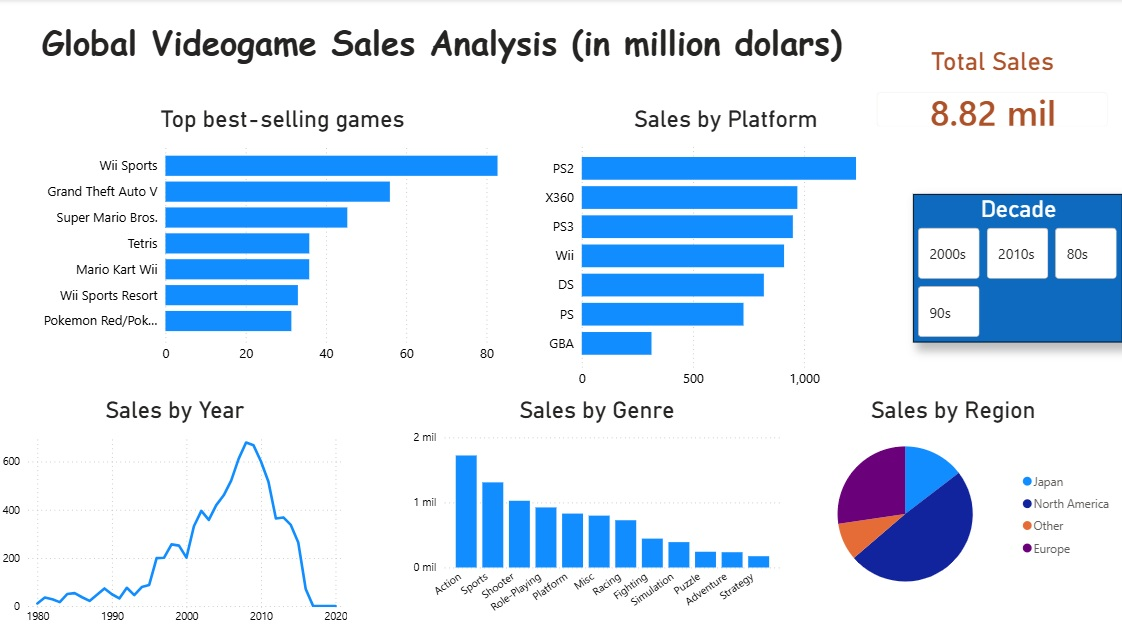

What the dashboard file says about the page in this screenshot:
{"tool":"powerbi","page":{"name":"Página 1","canvas":[1280,720],"ordinal":0},"visuals":[{"type":"clusteredBarChart","title":"Top best-selling games","fields":{"Category":["clean_sales_enriched.Name"],"Y":["Sum(clean_sales_enriched.Global_Sales)"]},"box":[32,121,582,302.6],"z":0},{"type":"clusteredColumnChart","title":"Sales by Genre","fields":{"Category":["clean_sales_enriched.Genre"],"Y":["Sum(clean_sales_enriched.Global_Sales)"]},"box":[468.1,452.1,427.1,268.7],"z":1000},{"type":"clusteredBarChart","title":"Sales by Platform","fields":{"Category":["clean_sales_enriched.Platform"],"Y":["Sum(clean_sales_enriched.Global_Sales)"]},"box":[614,121,427.1,331],"z":2000},{"type":"lineChart","title":"Sales by Year","fields":{"Category":["clean_sales_enriched.Year"],"Y":["Sum(clean_sales_enriched.Global_Sales)"]},"box":[0,452.1,402.2,268.7],"z":3000},{"type":"pieChart","title":"Sales by Region","fields":{"Y":["Sum(clean_sales_enriched.JP_Sales)","Sum(clean_sales_enriched.NA_Sales)","Sum(clean_sales_enriched.Other_Sales)","Sum(clean_sales_enriched.EU_Sales)"]},"box":[895.2,452.1,384.4,234.9],"z":4000},{"type":"textbox","box":[32,17.8,932.6,71.2],"z":5000},{"type":"cardVisual","title":"Total Sales","fields":{"Data":["Sum(clean_sales_enriched.Global_Sales)"]},"box":[982.4,53.4,297.2,108.6],"z":6000},{"type":"advancedSlicerVisual","fields":{"Values":["clean_sales_enriched.Decade"]},"box":[1041.2,222.5,238.5,169.1],"z":7000}]}

Visuals, with their boxes in screenshot pixels (x1, y1, x2, y2), scaled from the page's 1280x720 canvas onto the 1122x627 screenshot:
"Top best-selling games" clusteredBarChart: x1=28, y1=105, x2=538, y2=369
"Sales by Genre" clusteredColumnChart: x1=410, y1=394, x2=785, y2=626
"Sales by Platform" clusteredBarChart: x1=538, y1=105, x2=913, y2=394
"Sales by Year" lineChart: x1=0, y1=394, x2=353, y2=626
"Sales by Region" pieChart: x1=785, y1=394, x2=1121, y2=598
textbox: x1=28, y1=16, x2=846, y2=78
"Total Sales" cardVisual: x1=861, y1=47, x2=1121, y2=141
advancedSlicerVisual - clean_sales_enriched.Decade: x1=913, y1=194, x2=1121, y2=341
